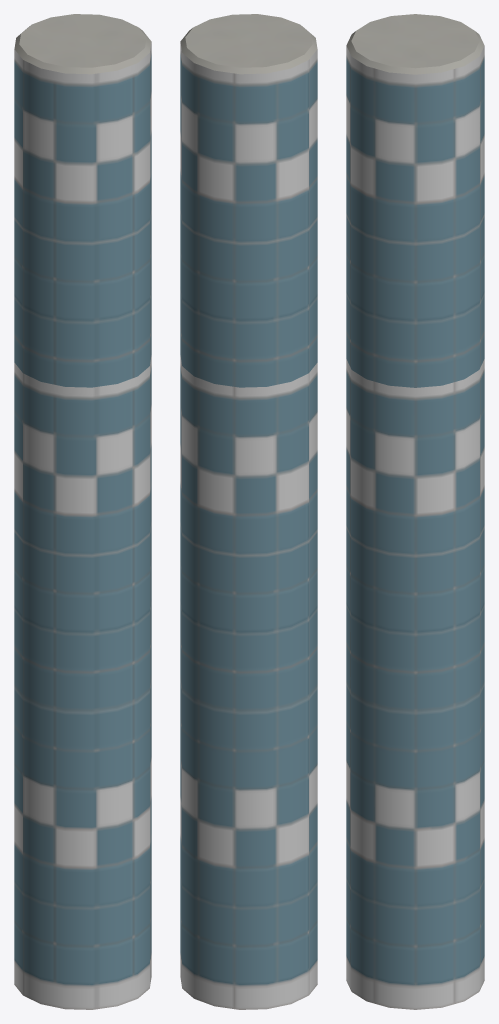
File: column8_2.fbx
The picture shows the model from 3 angles, left to right: view 1: azimuth 30°, elevation 25°; view 2: azimuth 150°, elevation 25°; view 3: azimuth 270°, elevation 25°; orthographic projection.
Parts seen in each view (by area): view 1: column8_b; view 2: column8_b; view 3: column8_b.
Boxes of the visible parts, left/top/right/bottom form: column8_b: left=14, top=14, right=151, bottom=1009; column8_b: left=180, top=14, right=317, bottom=1009; column8_b: left=346, top=14, right=484, bottom=1009.
Bounding box in the file's own units: 80 × 600 × 80.
